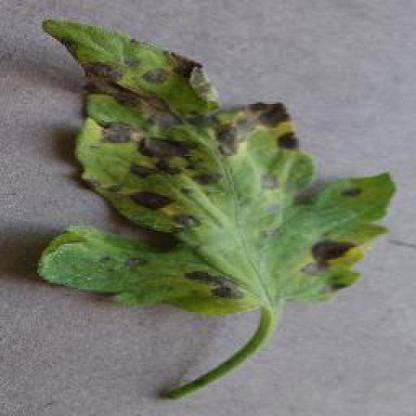Tomato_Blight: (39, 21, 398, 307)
